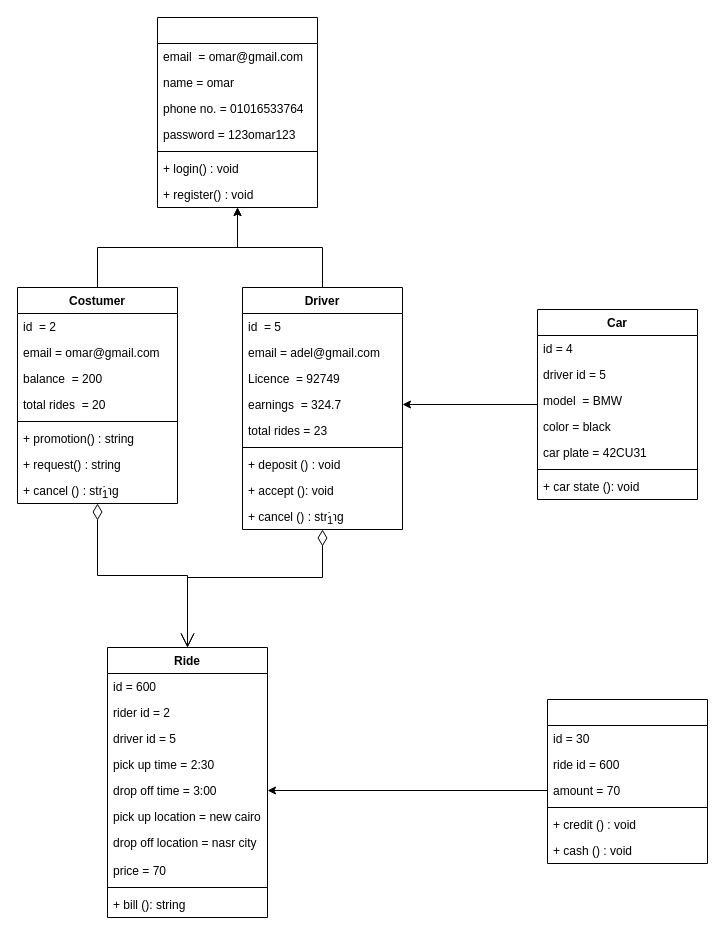
This 725x938 diagram has some shape labels left out. Here are the shapes that lost their labels. From the top down, the box of each, then its label:
(156, 16, 318, 208): Account
(546, 698, 708, 864): Payment
